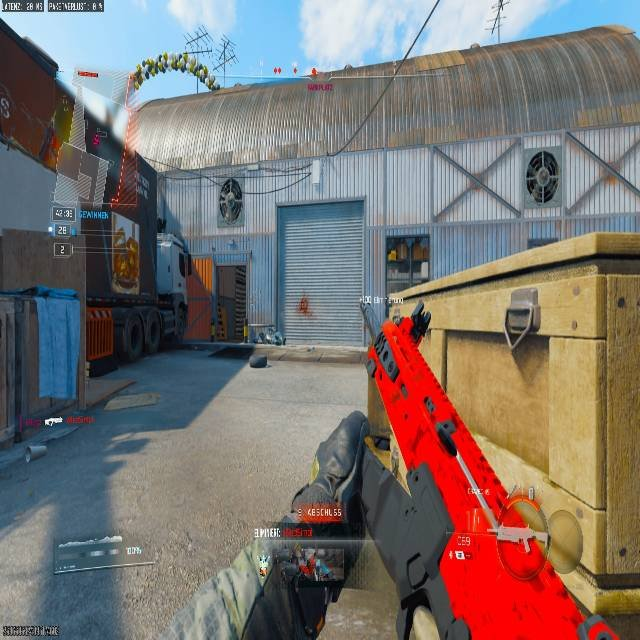player: (218, 176, 243, 226)
